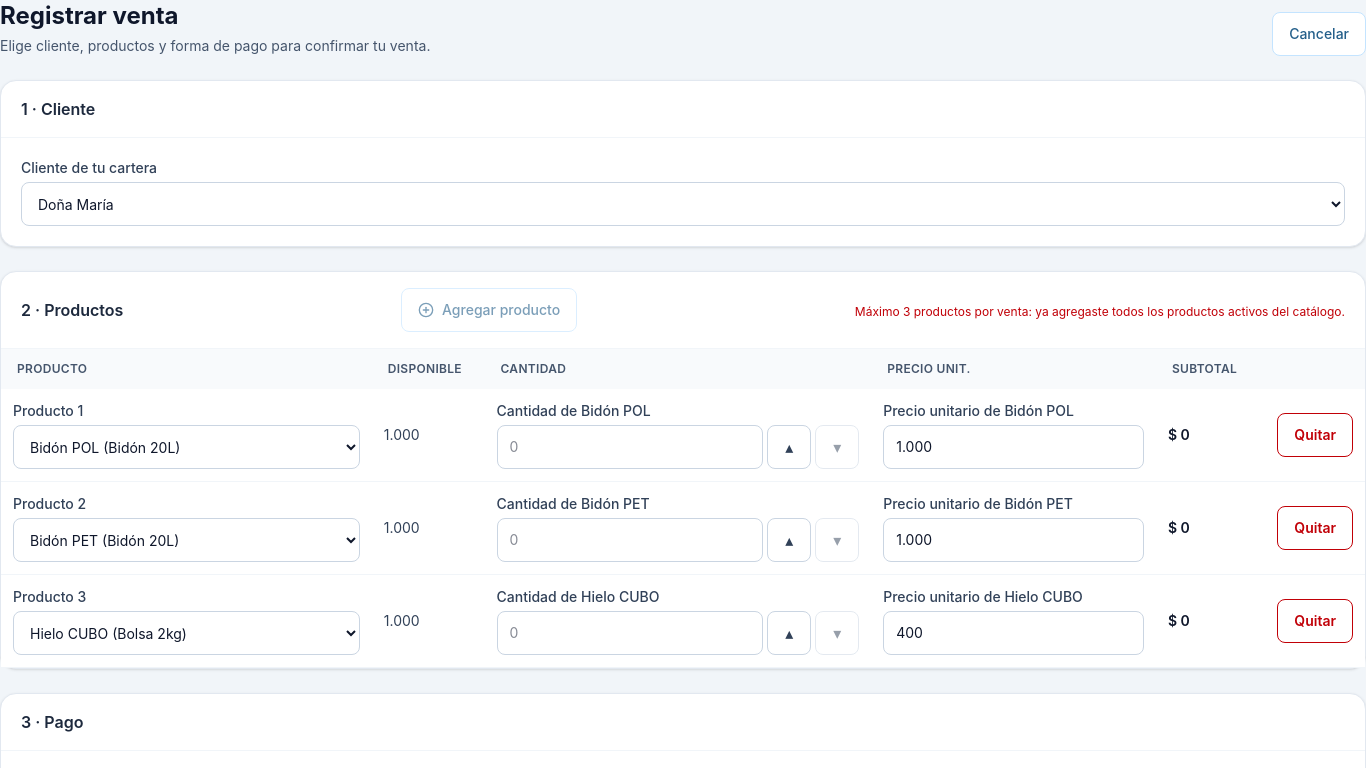
Test case: HU-01 · RegistrarVenta — Toast sin productos válidos › muestra Toast de error al submit sin productos con cantidad > 0
The image size is (1366, 768).
Expected: the heading "Registrar venta" is shown, [0,1,178,30]
Select "Doña María" in the dropdown labelled "Cliente de tu cartera" at (683, 204), box [21,182,1345,226]
(page scrolled)
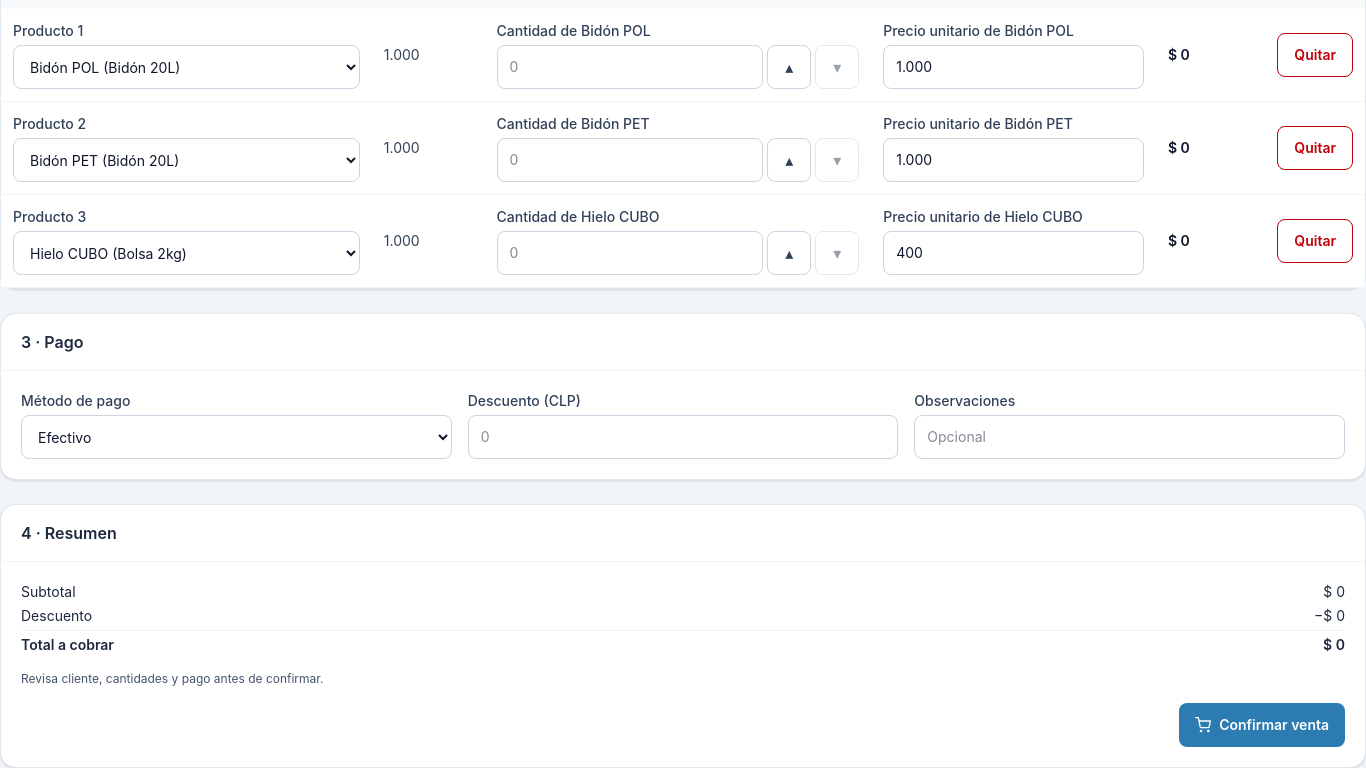
Click the button "Confirmar venta".
click(1262, 725)  # box [1179,703,1345,747]
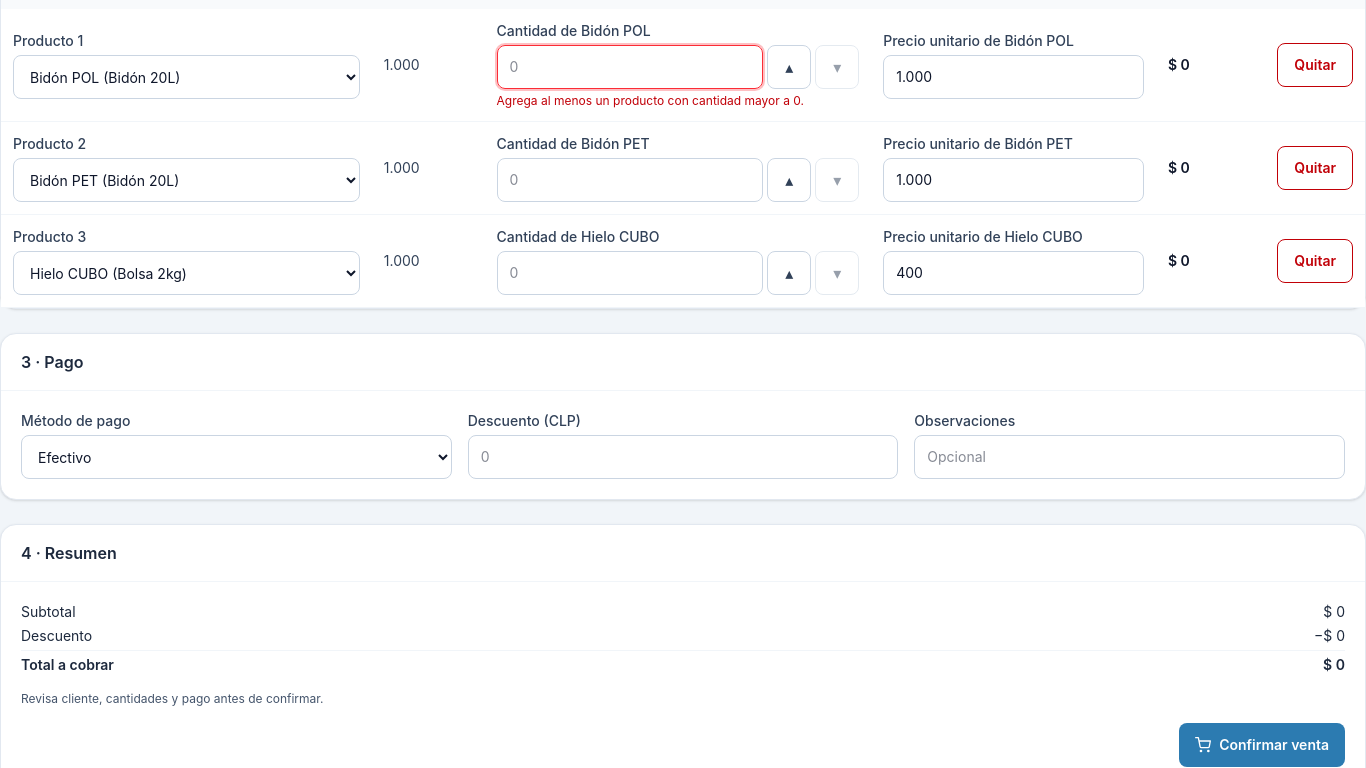
Expected: the text "Agrega al menos un producto con cantidad mayor a 0." is shown, [496,93,804,108]
